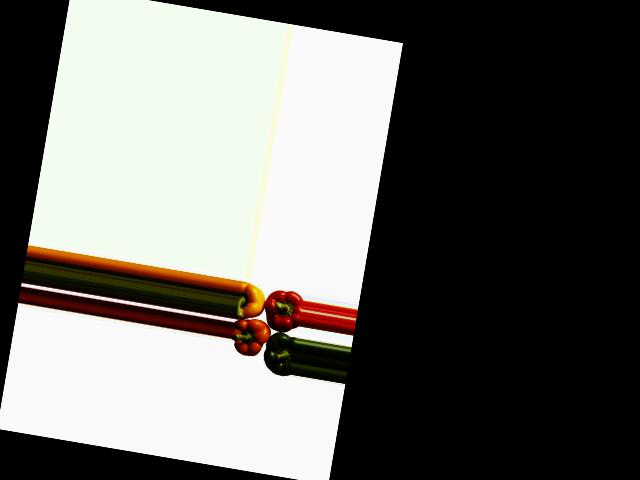bell_pepper: (234, 280, 270, 325)
